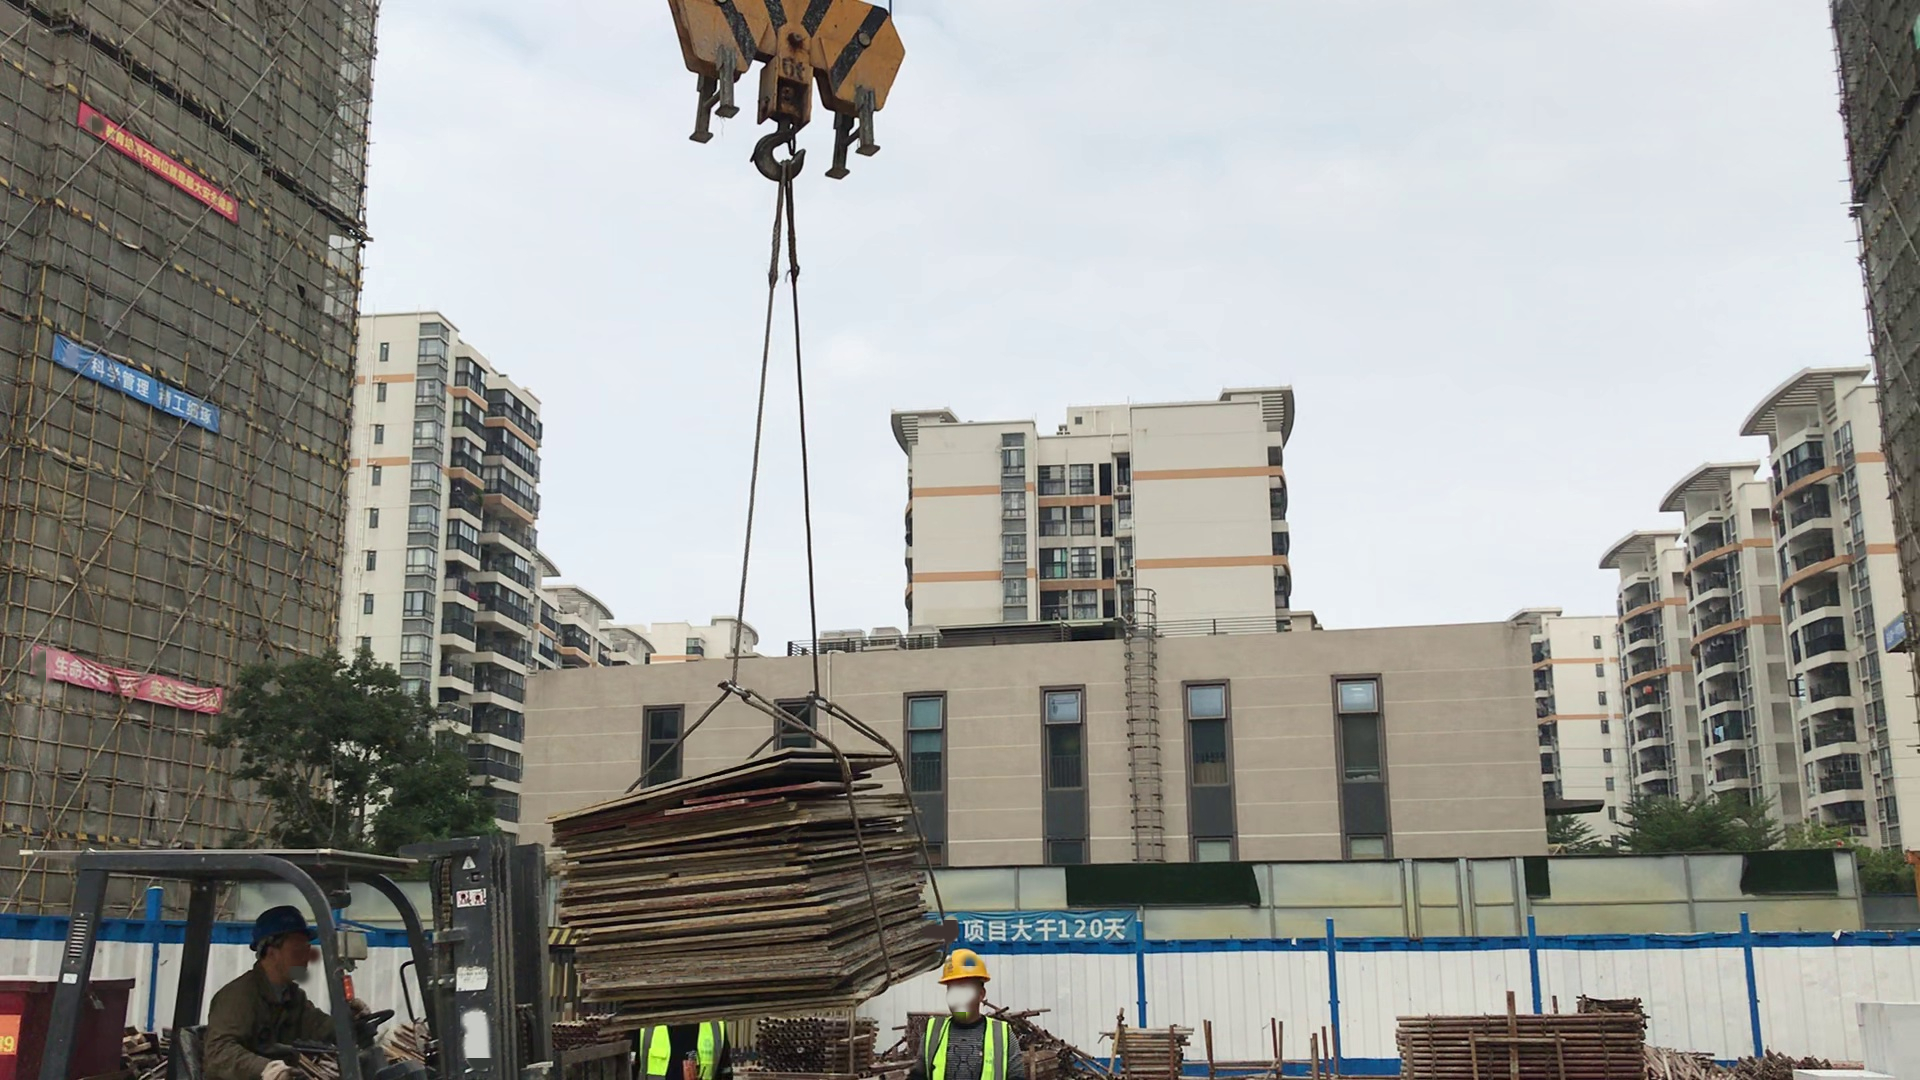board: (544, 735, 952, 997)
brick: (1830, 986, 1913, 1080), (1784, 1067, 1891, 1080)
helmet: (249, 905, 315, 947), (936, 945, 988, 979)
hook: (667, 1, 910, 195)
person: (193, 906, 366, 1080), (910, 950, 1016, 1080)
scaffold: (1382, 995, 1654, 1080), (1112, 1008, 1193, 1080)
slogan: (61, 102, 244, 224), (56, 655, 233, 719), (92, 351, 221, 433)
vest: (924, 1008, 1010, 1080), (633, 1017, 726, 1076)
